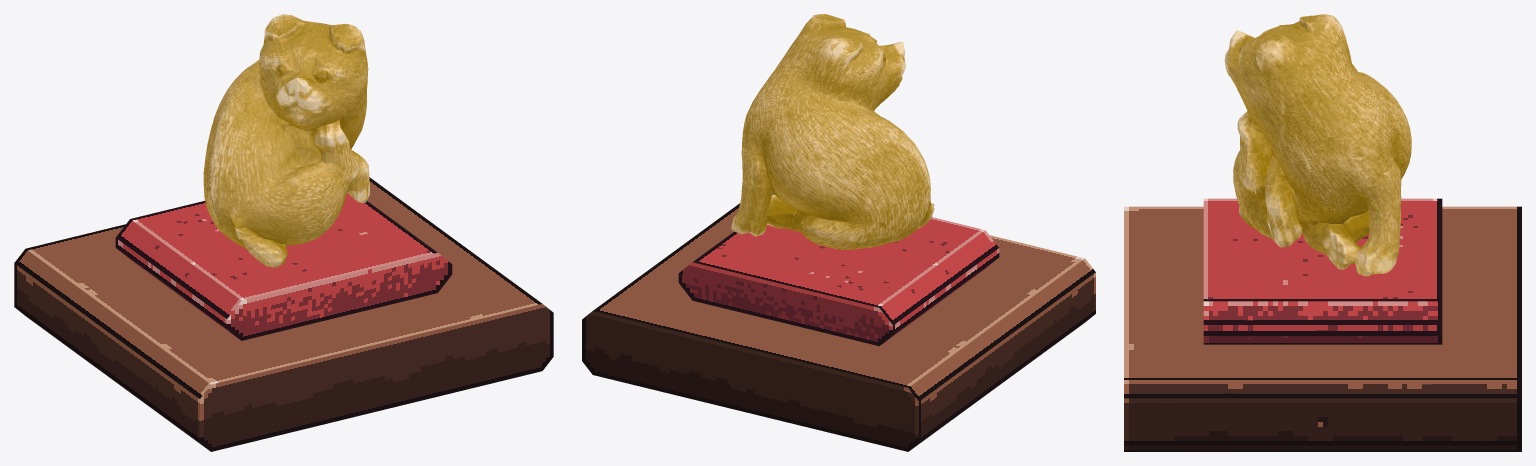
File: netsuke.glb
3 views of the same model, side by side, from view 1: azimuth 30°, elevation 25°; view 2: azimuth 150°, elevation 25°; view 3: azimuth 270°, elevation 25° (orthographic). The views are drawn at different scales.
Parts seen in each view (by area): view 1: base, model_puppy, cushion; view 2: base, model_puppy, cushion; view 3: base, model_puppy, cushion.
Part boxes in pixels (x1,y1,x2,y2): base: (14,177,553,451); model_puppy: (203,14,369,267); cushion: (115,193,452,340); base: (582,193,1095,451); model_puppy: (731,14,934,249); cushion: (678,217,999,346); base: (1124,206,1521,451); model_puppy: (1224,14,1411,276); cushion: (1203,198,1442,344).
Bounding box in the file's own units: 22 × 19.4 × 20.
Materials: 2 (2 with a texture image).
